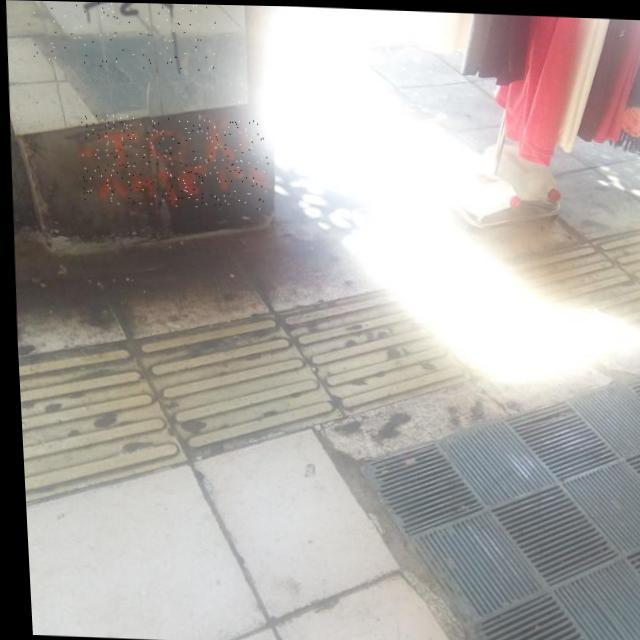-: (78, 114, 270, 208), (28, 0, 217, 70)
